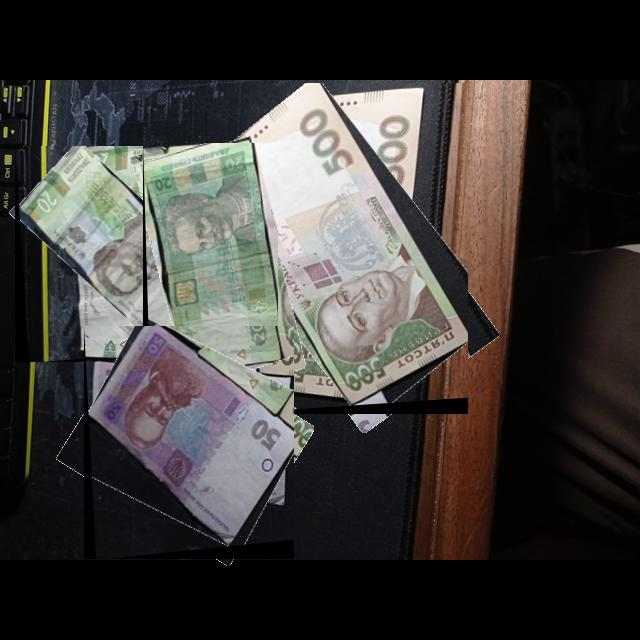20uah: (19, 146, 215, 355), (144, 143, 279, 380)
500uah: (207, 83, 469, 408)
50uah: (89, 326, 295, 549)
